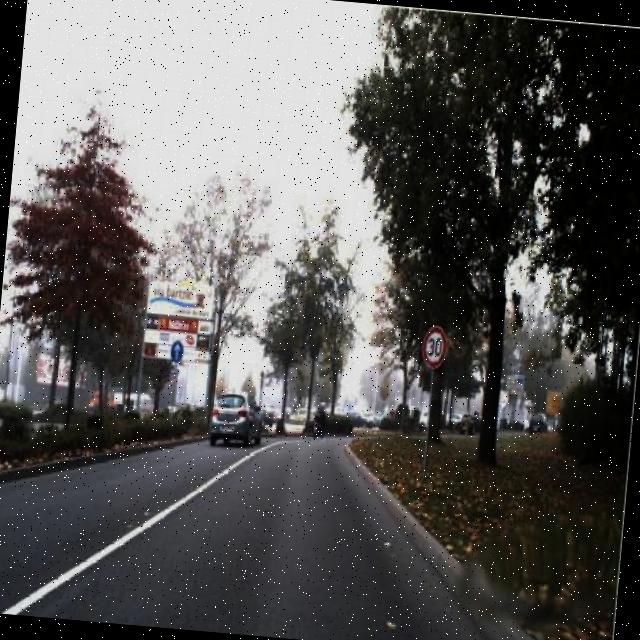Ograniczenie predkosci do 30: (420, 324, 448, 372)
